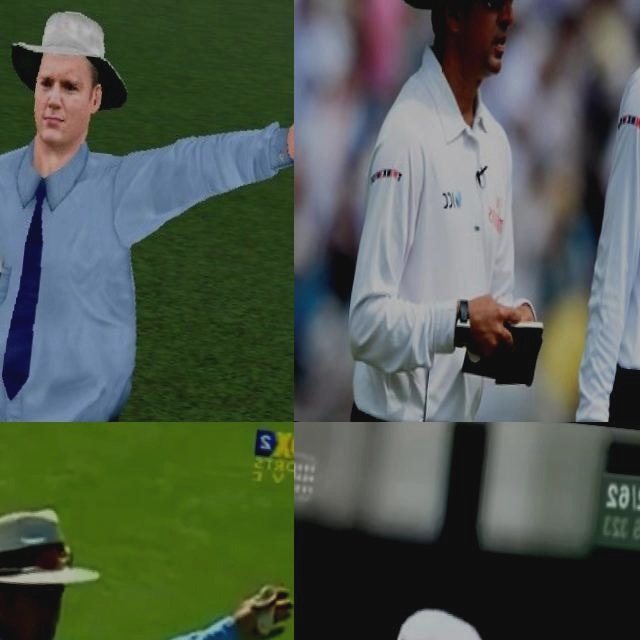No_Action: (331, 0, 594, 422), (561, 0, 640, 422), (294, 578, 614, 640)
No_Ball: (0, 0, 294, 422)
Wide: (0, 474, 294, 640)
